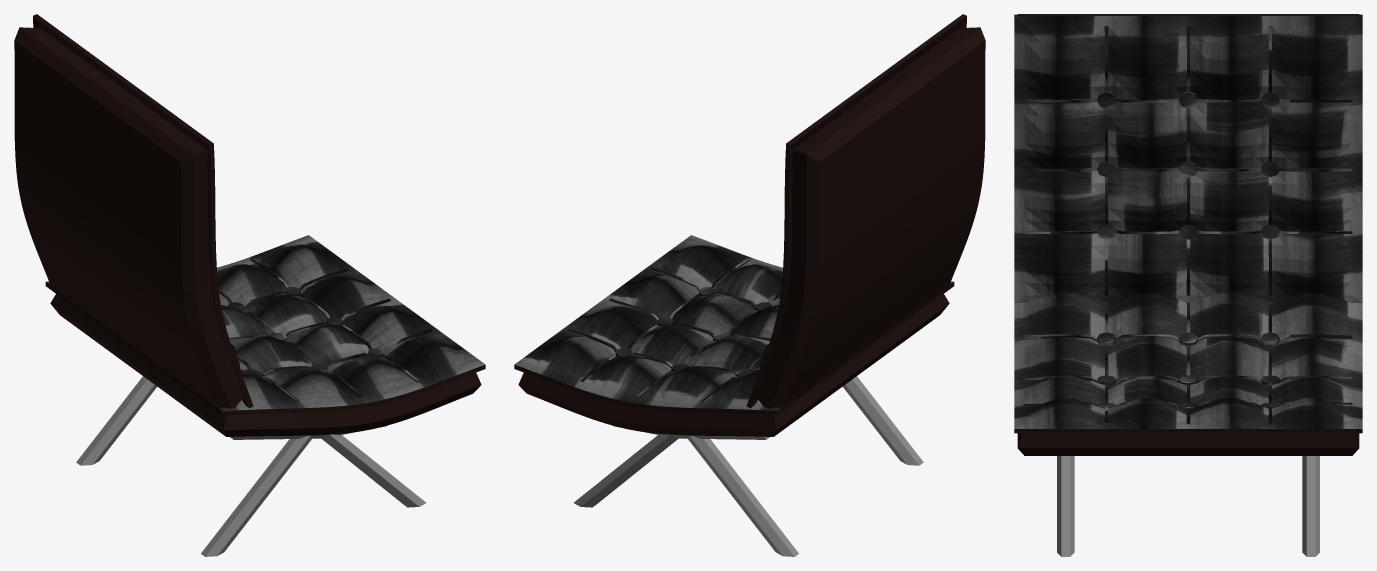
File: Chair.fbx
The picture shows the model from 3 angles, left to right: view 1: azimuth 30°, elevation 25°; view 2: azimuth 150°, elevation 25°; view 3: azimuth 270°, elevation 25°; orthographic projection.
Parts seen in each view (by area): view 1: Chair_bottom, Chair_leg; view 2: Chair_bottom, Chair_leg; view 3: Chair_bottom, Chair_leg.
Part boxes in pixels (left/top/right/bottom): Chair_bottom: left=14, top=14, right=485, bottom=436; Chair_leg: left=76, top=376, right=425, bottom=556; Chair_bottom: left=514, top=14, right=985, bottom=436; Chair_leg: left=574, top=376, right=923, bottom=556; Chair_bottom: left=1014, top=14, right=1362, bottom=455; Chair_leg: left=1057, top=456, right=1319, bottom=556.
Size of the model in its own units: 0.8309 by 1.15 by 0.8498.
